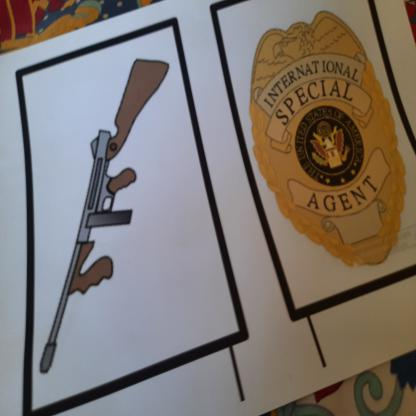Bootlegger: (34, 51, 188, 387)
G-man: (245, 5, 415, 276)
